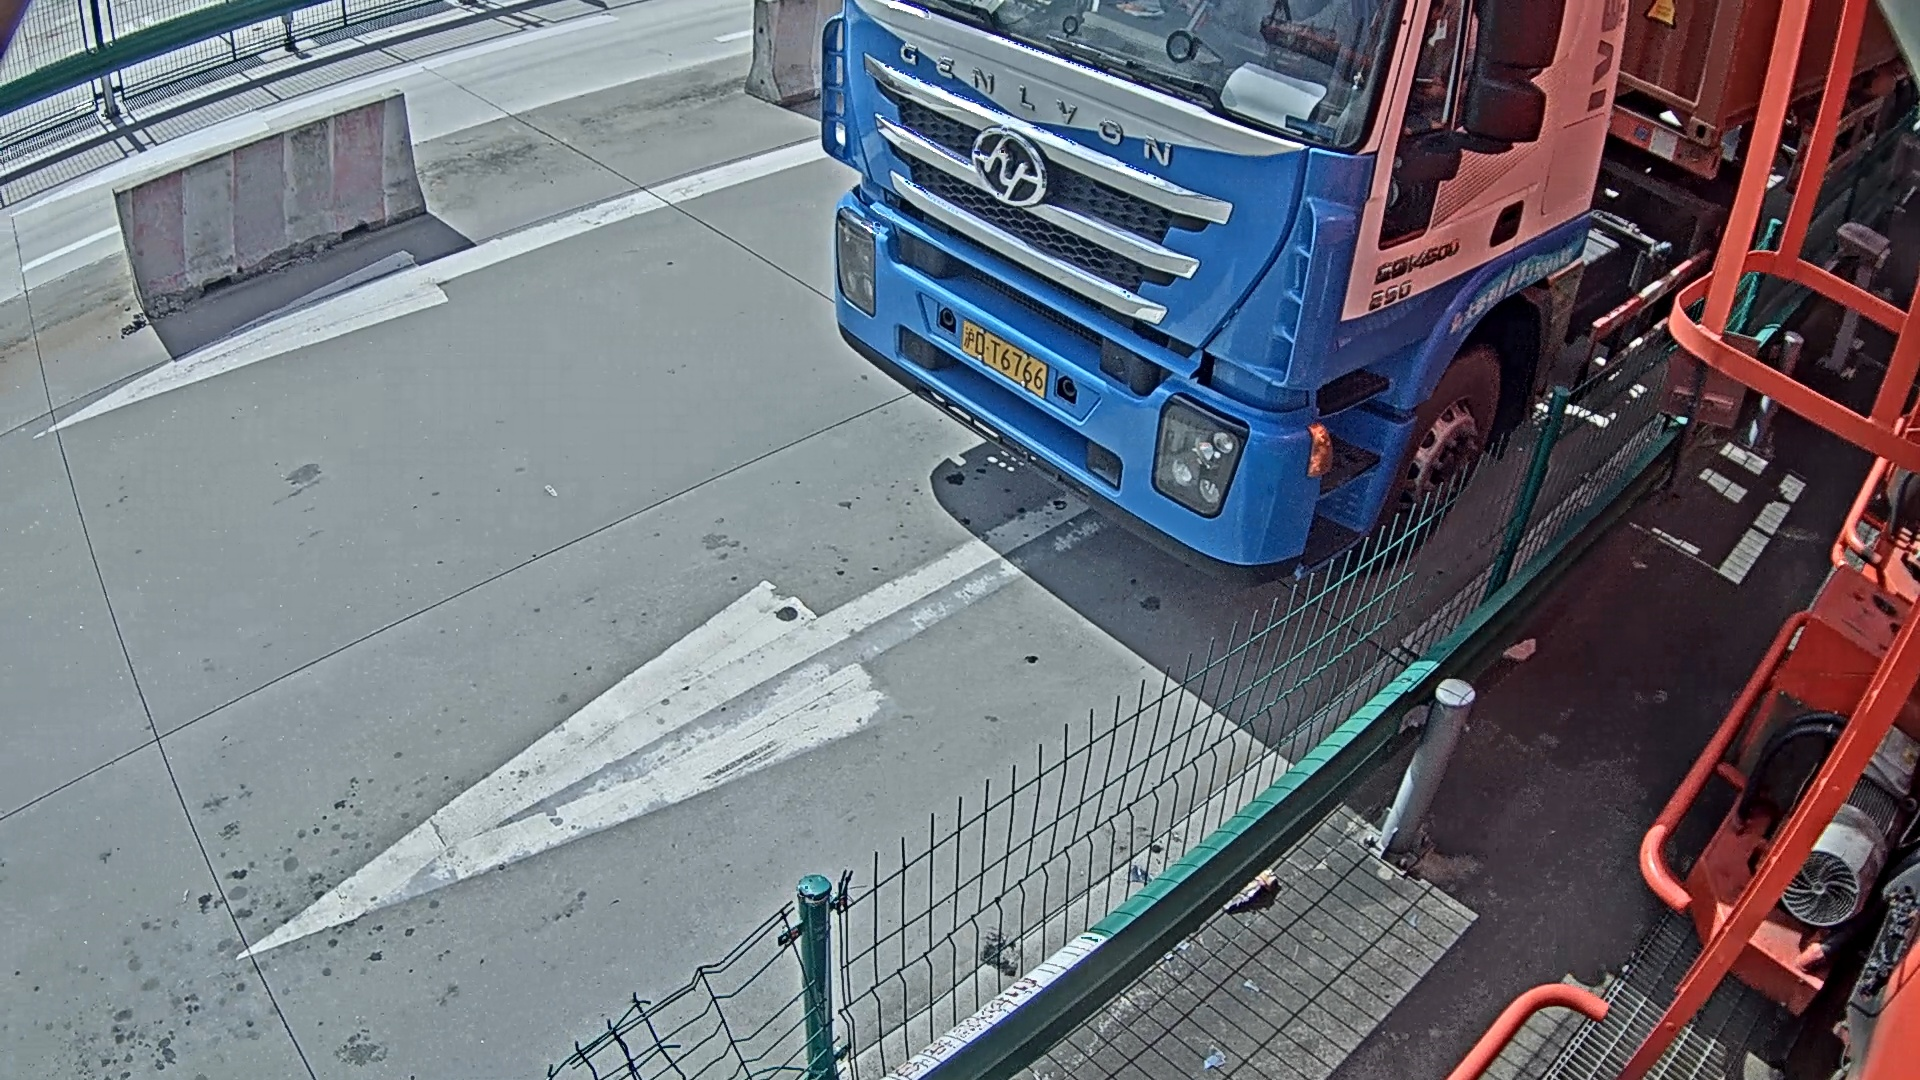head: (831, 2, 1629, 565)
plate: (957, 319, 1048, 392)
